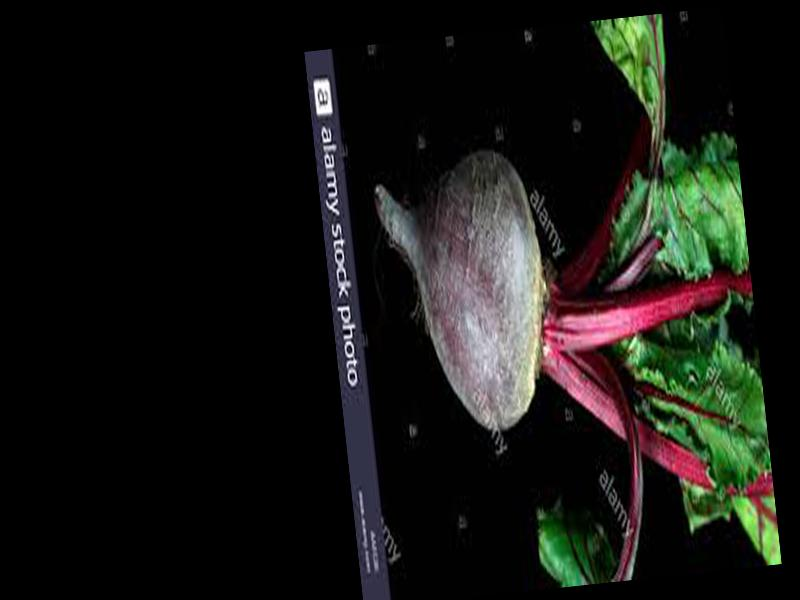Beet: (359, 10, 779, 600)
